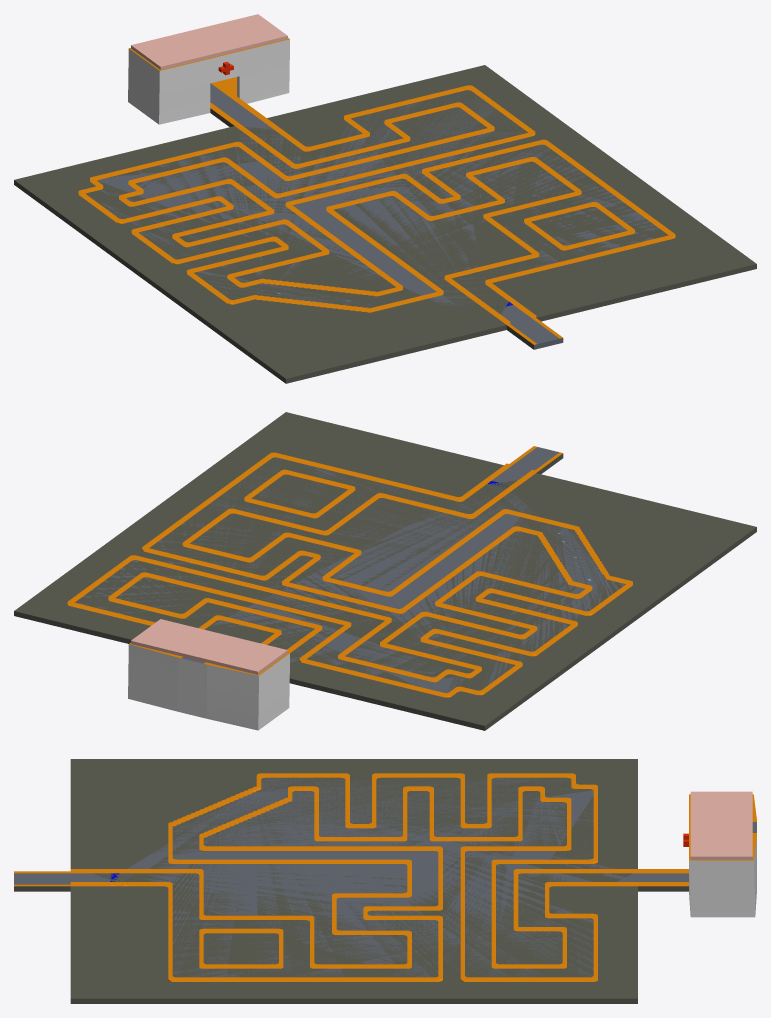
The model's file is map1.1.fbx.
3 renders of one model, top to bottom at view 1: azimuth 30°, elevation 25°; view 2: azimuth 150°, elevation 25°; view 3: azimuth 270°, elevation 25°, orthographic. The views are drawn at different scales.
Visible parts, largest first — view 1: Cube.003; view 2: Cube.003; view 3: Cube.003.
Boxes of the visible parts, bbox=[...] form: Cube.003: bbox=[14, 14, 756, 383]; Cube.003: bbox=[14, 412, 756, 730]; Cube.003: bbox=[14, 759, 756, 1003].
Bounding box in the file's own units: 10000 × 1166 × 13100.
